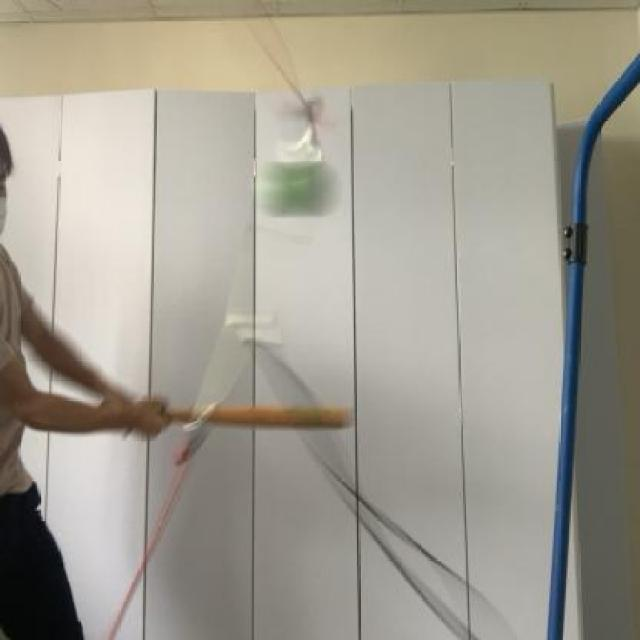baseball: (258, 156, 340, 221)
